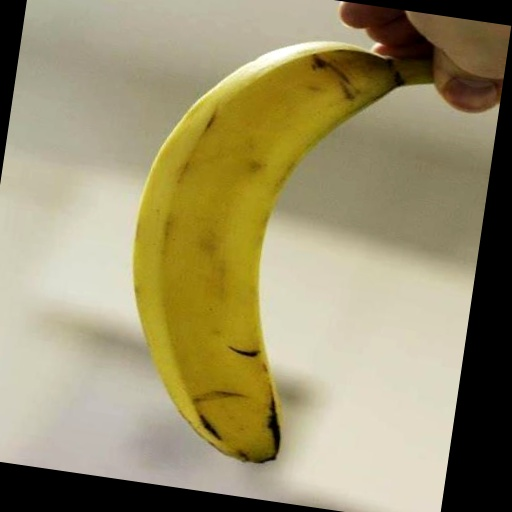fruit: (133, 42, 431, 462)
